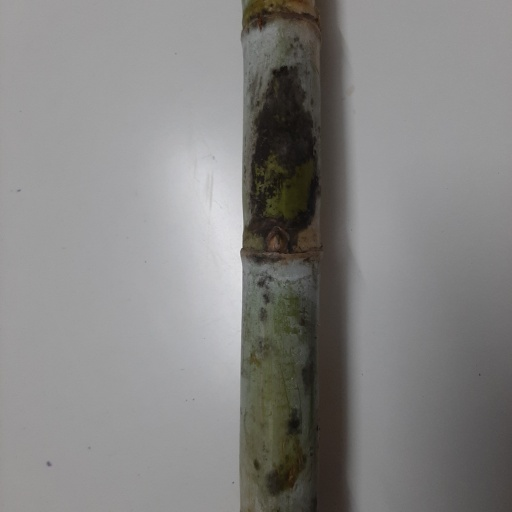Bud: (267, 229, 287, 252)
